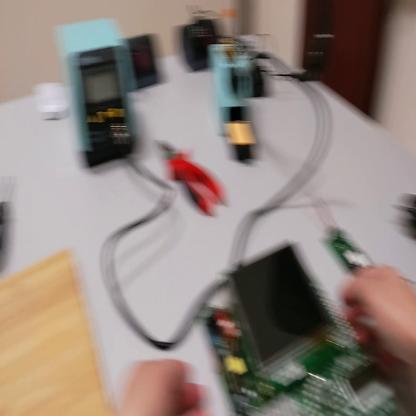hand: (340, 265, 416, 377), (117, 359, 213, 414)
high voltage board: (315, 198, 378, 269)
low voltage board: (179, 239, 391, 416)
pliers: (153, 134, 229, 224)
socket: (123, 38, 163, 97), (181, 19, 218, 72)
welder base: (208, 40, 258, 165)
welder station: (55, 18, 138, 170)
working area: (1, 252, 109, 411)
